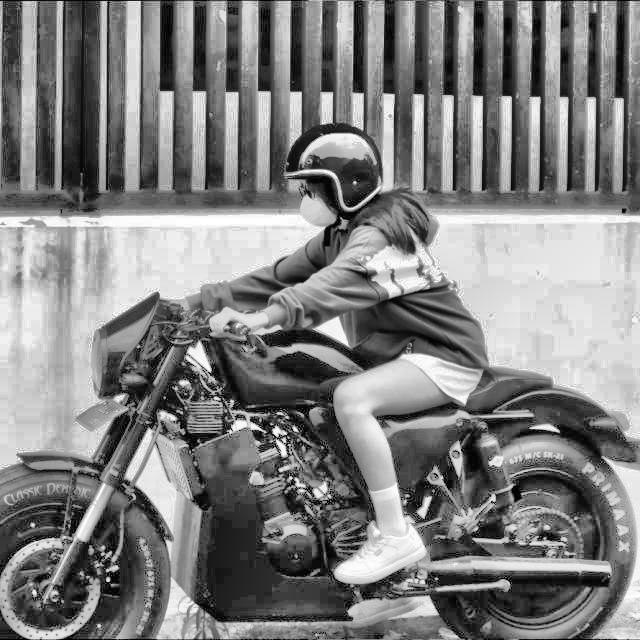Helmet: (278, 117, 388, 240)
